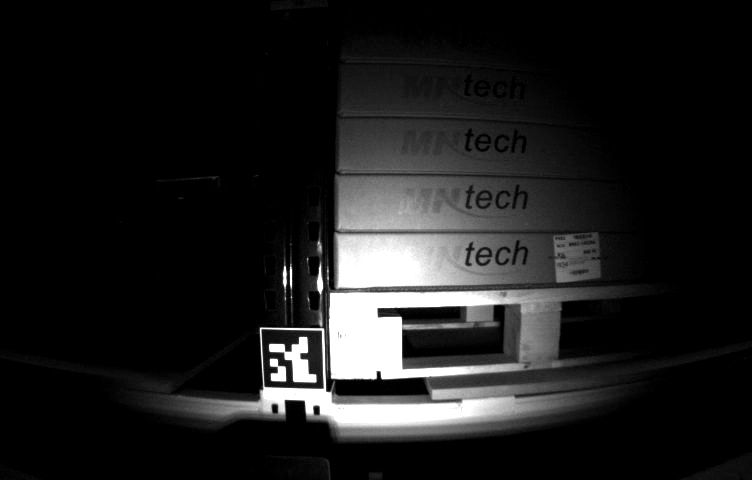True Barcode: (551, 230, 601, 284)
